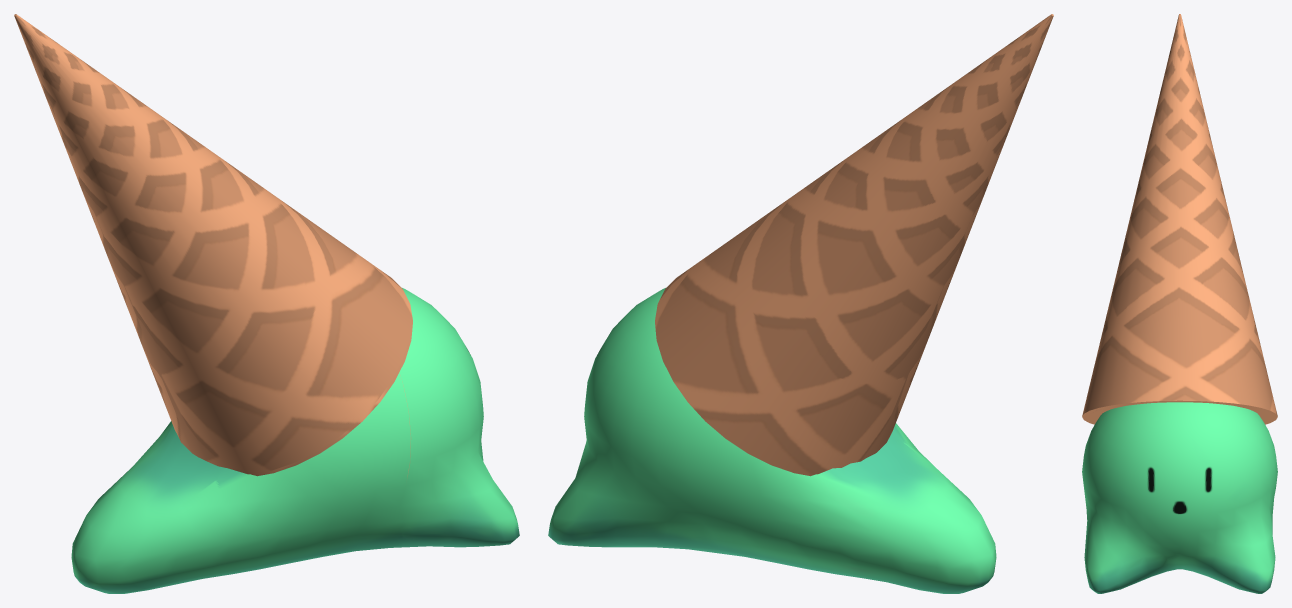
File: slocone1.glb
The picture shows the model from 3 angles, left to right: view 1: azimuth 30°, elevation 25°; view 2: azimuth 150°, elevation 25°; view 3: azimuth 270°, elevation 25°; orthographic projection. The views are drawn at different scales.
Visible parts, largest first — view 1: Cone, Sphere; view 2: Cone, Sphere; view 3: Cone, Sphere.
Boxes of the visible parts, left/top/right/bottom form: Cone: left=14, top=14, right=412, bottom=476; Sphere: left=71, top=288, right=519, bottom=593; Cone: left=655, top=14, right=1053, bottom=476; Sphere: left=548, top=288, right=996, bottom=593; Cone: left=1082, top=14, right=1277, bottom=424; Sphere: left=1082, top=402, right=1277, bottom=593.
Bounding box in the file's own units: 3.82 × 4.87 × 2.
Materials: 1 (1 with a texture image).
